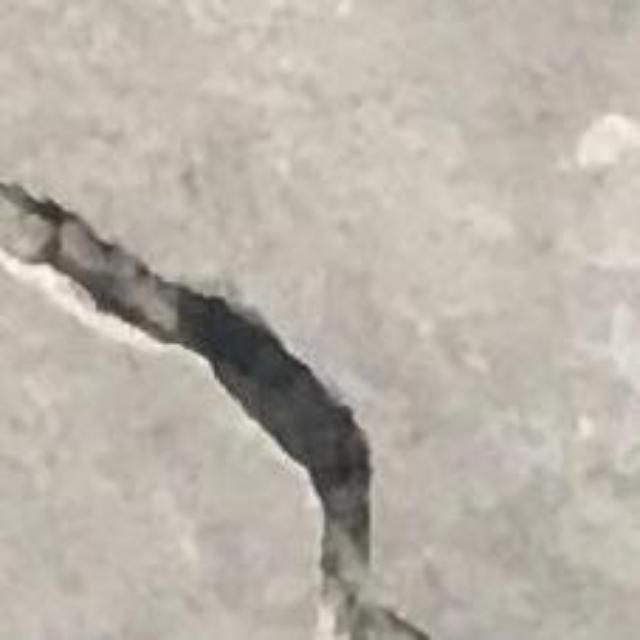crack: (0, 184, 431, 639)
